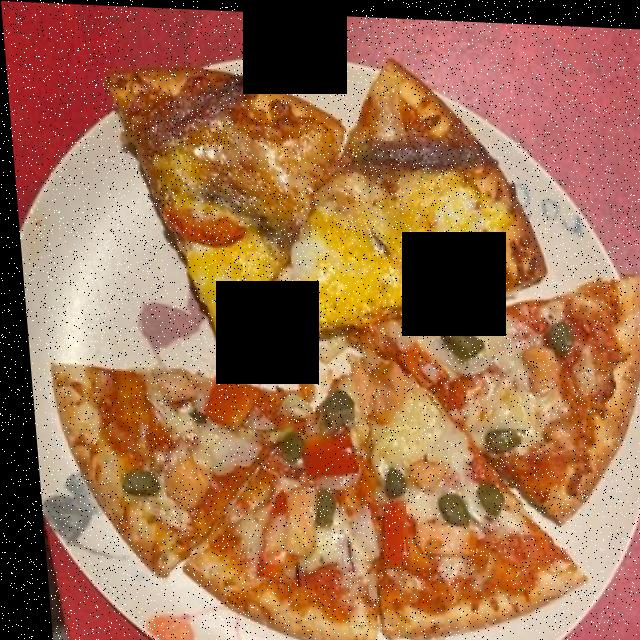egg: (175, 168, 502, 350)
pizza-margherita-baked: (40, 49, 631, 629)
salmon: (158, 334, 549, 554)
